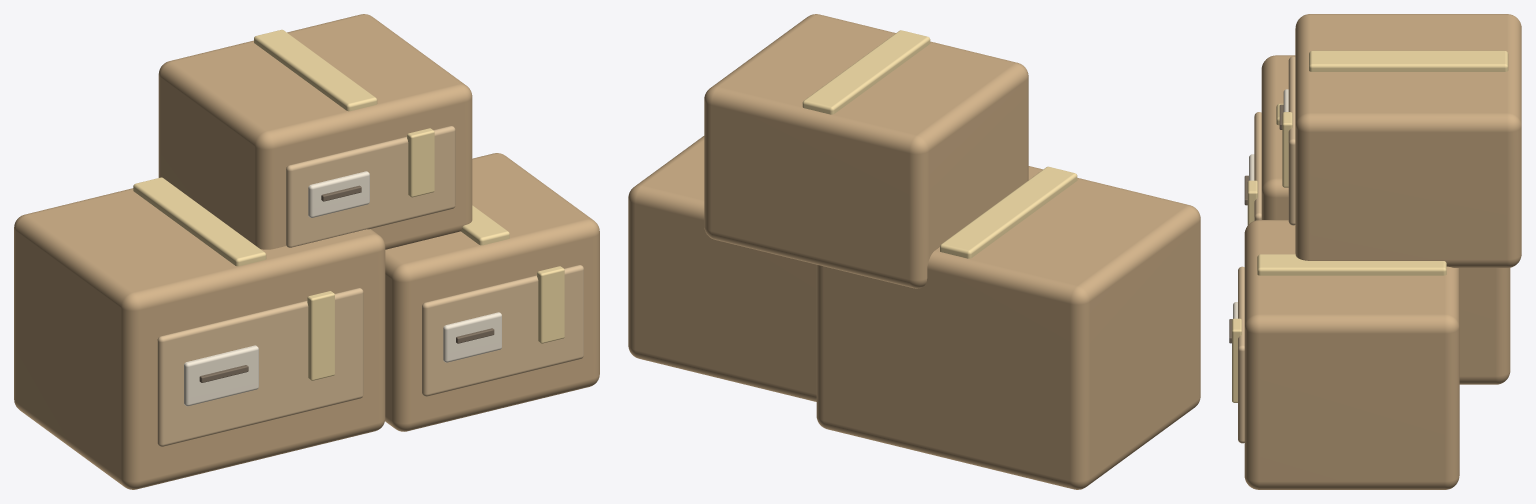
Rendered from 目标搬家纸箱堆.fbx.
3 renders of one model, left to right at view 1: azimuth 30°, elevation 25°; view 2: azimuth 150°, elevation 25°; view 3: azimuth 270°, elevation 25°, orthographic. The views are drawn at different scales.
Parts seen in each view (by area): view 1: 目标搬家纸箱堆_端正纸箱1, 目标搬家纸箱堆_端正纸箱3, 目标搬家纸箱堆_端正纸箱2, 目标搬家纸箱堆_正面浅纸板1, 目标搬家纸箱堆_正面浅纸板2, 目标搬家纸箱堆_正面浅纸板3, 目标搬家纸箱堆_顶部封箱胶带1, 目标搬家纸箱堆_顶部封箱胶带3, 目标搬家纸箱堆_白色搬家标签1, 目标搬家纸箱堆_正面封箱短带1, 目标搬家纸箱堆_白色搬家标签2, 目标搬家纸箱堆_正面封箱短带2 (+3 smaller); view 2: 目标搬家纸箱堆_端正纸箱1, 目标搬家纸箱堆_端正纸箱3, 目标搬家纸箱堆_端正纸箱2, 目标搬家纸箱堆_顶部封箱胶带1, 目标搬家纸箱堆_顶部封箱胶带3; view 3: 目标搬家纸箱堆_端正纸箱3, 目标搬家纸箱堆_端正纸箱2, 目标搬家纸箱堆_端正纸箱1, 目标搬家纸箱堆_顶部封箱胶带3, 目标搬家纸箱堆_顶部封箱胶带2, 目标搬家纸箱堆_正面浅纸板3, 目标搬家纸箱堆_正面浅纸板2, 目标搬家纸箱堆_正面浅纸板1, 目标搬家纸箱堆_正面封箱短带3, 目标搬家纸箱堆_正面封箱短带2, 目标搬家纸箱堆_正面封箱短带1.
Part boxes in pixels (x1,y1,x2,y2): 目标搬家纸箱堆_端正纸箱1: (14, 188, 385, 489); 目标搬家纸箱堆_端正纸箱3: (158, 14, 472, 249); 目标搬家纸箱堆_端正纸箱2: (385, 153, 599, 431); 目标搬家纸箱堆_正面浅纸板1: (157, 288, 363, 446); 目标搬家纸箱堆_正面浅纸板2: (422, 265, 583, 396); 目标搬家纸箱堆_正面浅纸板3: (286, 126, 455, 247); 目标搬家纸箱堆_顶部封箱胶带1: (133, 177, 266, 266); 目标搬家纸箱堆_顶部封箱胶带3: (254, 29, 377, 111); 目标搬家纸箱堆_白色搬家标签1: (184, 345, 258, 406); 目标搬家纸箱堆_正面封箱短带1: (307, 291, 334, 380); 目标搬家纸箱堆_白色搬家标签2: (443, 312, 501, 362); 目标搬家纸箱堆_正面封箱短带2: (537, 266, 564, 343); 目标搬家纸箱堆_端正纸箱1: (816, 166, 1200, 489); 目标搬家纸箱堆_端正纸箱3: (704, 14, 1028, 288); 目标搬家纸箱堆_端正纸箱2: (628, 136, 816, 401); 目标搬家纸箱堆_顶部封箱胶带1: (940, 166, 1077, 258); 目标搬家纸箱堆_顶部封箱胶带3: (802, 30, 930, 114); 目标搬家纸箱堆_端正纸箱3: (1295, 14, 1521, 267); 目标搬家纸箱堆_端正纸箱2: (1244, 220, 1459, 489); 目标搬家纸箱堆_端正纸箱1: (1261, 55, 1510, 384); 目标搬家纸箱堆_顶部封箱胶带3: (1309, 50, 1508, 71); 目标搬家纸箱堆_顶部封箱胶带2: (1257, 254, 1446, 275); 目标搬家纸箱堆_正面浅纸板3: (1288, 56, 1295, 225); 目标搬家纸箱堆_正面浅纸板2: (1238, 266, 1244, 443); 目标搬家纸箱堆_正面浅纸板1: (1254, 112, 1261, 220); 目标搬家纸箱堆_正面封箱短带3: (1282, 112, 1292, 187); 目标搬家纸箱堆_正面封箱短带2: (1232, 318, 1241, 402); 目标搬家纸箱堆_正面封箱短带1: (1247, 180, 1257, 225).
Size of the model in its own units: 100 by 64.3 by 51.71.
